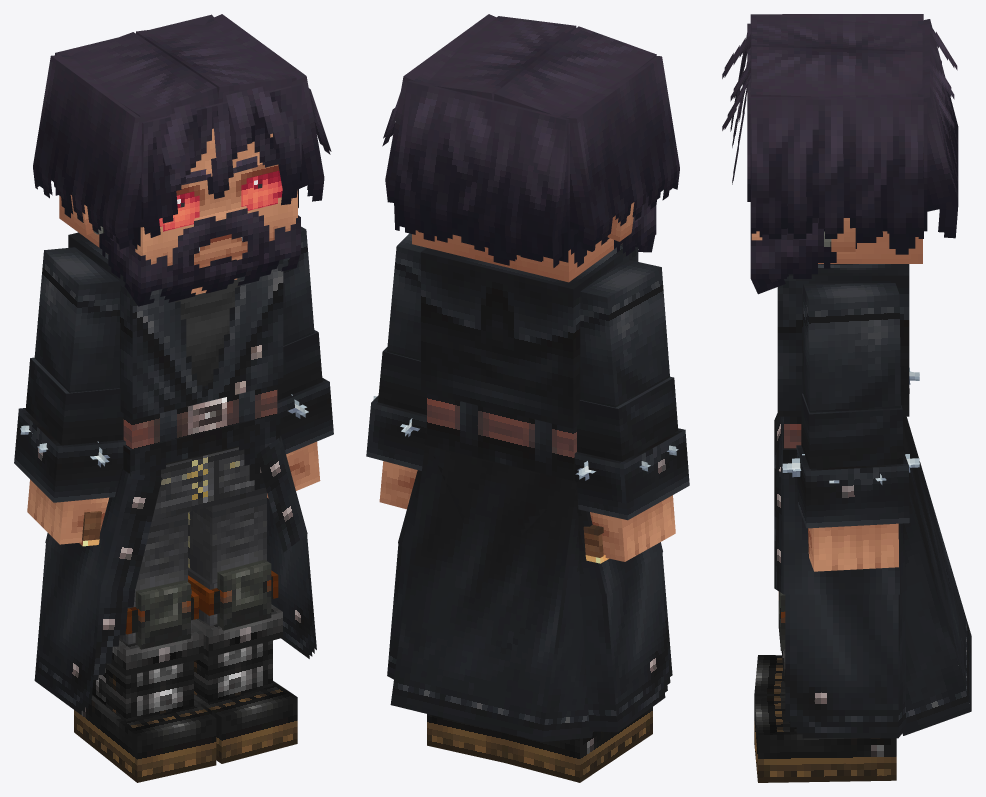
3 views of the same model, side by side, from view 1: azimuth 30°, elevation 25°; view 2: azimuth 150°, elevation 25°; view 3: azimuth 270°, elevation 25° (orthographic). The views are drawn at different scales.
Visible parts, largest first — view 1: Coat2.mesh, SideHairR.mesh, HairTop.mesh (×2), R-Sleeve.mesh, FrontHair.mesh (×2), R_Side_Cloth_2.mesh, R-Boot.mesh, Beard.mesh, Block.mesh (×2), R_Side_Cloth_Side_L.mesh (×2), BellyPart.mesh, R-Sleeve_End.mesh (+27 smaller); view 2: Coat2.mesh, Back_Cloth_2.mesh, Back_Cloth_1.mesh, BackHair.mesh, HairTop.mesh (×2), SideHairR.mesh, R-Sleeve.mesh, R_Side_Cloth_2.mesh, BellyPart.mesh, R-Sleeve_End.mesh, Back_Cloth_R.mesh (×2), R-Sleeve2.mesh (+17 smaller); view 3: L_Side_Cloth_2.mesh, SideHairVolume.mesh, HairTop.mesh (×2), L-Sleeve.mesh, Back_Cloth_L.mesh (×2), L-Boot.mesh, SideHairL.mesh, L-Sleeve_End.mesh, Coat2.mesh, L-Sleeve2.mesh, L_Side_Cloth_1.mesh, BackHair.mesh (+17 smaller).
Boxes of the visible parts, bbox=[...] form: Coat2.mesh: bbox=[68, 232, 283, 419]; SideHairR.mesh: bbox=[33, 55, 166, 228]; HairTop.mesh (×2): bbox=[71, 24, 296, 129]; R-Sleeve.mesh: bbox=[34, 247, 119, 392]; FrontHair.mesh (×2): bbox=[152, 86, 301, 223]; R_Side_Cloth_2.mesh: bbox=[34, 544, 101, 714]; R-Boot.mesh: bbox=[74, 694, 216, 782]; Beard.mesh: bbox=[99, 208, 300, 293]; Block.mesh (×2): bbox=[135, 559, 271, 649]; R_Side_Cloth_Side_L.mesh (×2): bbox=[93, 473, 161, 679]; BellyPart.mesh: bbox=[123, 385, 277, 463]; R-Sleeve_End.mesh: bbox=[14, 408, 125, 502]; Coat2.mesh: bbox=[421, 243, 638, 428]; Back_Cloth_2.mesh: bbox=[390, 558, 561, 741]; Back_Cloth_1.mesh: bbox=[410, 445, 576, 595]; BackHair.mesh: bbox=[394, 80, 569, 236]; HairTop.mesh (×2): bbox=[427, 16, 656, 115]; SideHairR.mesh: bbox=[561, 56, 679, 230]; R-Sleeve.mesh: bbox=[580, 259, 669, 407]; R_Side_Cloth_2.mesh: bbox=[606, 552, 672, 731]; BellyPart.mesh: bbox=[427, 393, 576, 481]; R-Sleeve_End.mesh: bbox=[574, 428, 689, 520]; Back_Cloth_R.mesh (×2): bbox=[542, 483, 592, 741]; R-Sleeve2.mesh: bbox=[577, 376, 678, 461]; L_Side_Cloth_2.mesh: bbox=[785, 594, 898, 738]; SideHairVolume.mesh: bbox=[751, 99, 922, 221]; HairTop.mesh (×2): bbox=[750, 16, 922, 96]; L-Sleeve.mesh: bbox=[803, 283, 900, 412]; Back_Cloth_L.mesh (×2): bbox=[902, 501, 971, 735]; L-Boot.mesh: bbox=[754, 695, 896, 782]; SideHairL.mesh: bbox=[750, 91, 923, 217]; L-Sleeve_End.mesh: bbox=[796, 445, 909, 528]; Coat2.mesh: bbox=[777, 264, 909, 416]; L-Sleeve2.mesh: bbox=[801, 393, 903, 468]; L_Side_Cloth_1.mesh: bbox=[783, 474, 899, 594]; BackHair.mesh: bbox=[918, 19, 958, 211].
Size of the model in its own units: 3.43 by 7.84 by 2.55.
2 materials, 2 textured.
